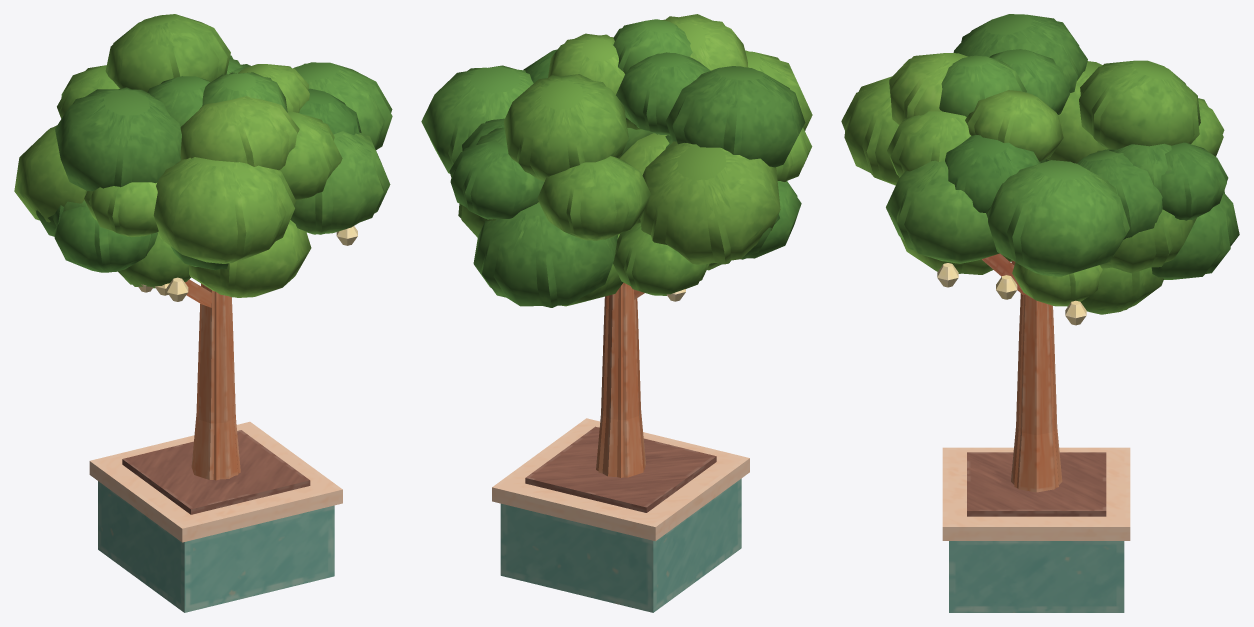
The model's file is tree.bundle.fbx.
3 views of the same model, side by side, from view 1: azimuth 30°, elevation 25°; view 2: azimuth 150°, elevation 25°; view 3: azimuth 270°, elevation 25° (orthographic).
Parts seen in each view (by area): view 1: tree, tree_low, tree_s02, tree_s06; view 2: tree, tree_low, tree_s01, tree_s06; view 3: tree, tree_low, tree_s02, tree_s01, tree_s06.
Part boxes in pixels (x1,y1,x2,y2): tree: (14,14,392,607); tree_low: (50,16,392,612); tree_s02: (185,421,342,591); tree_s06: (90,440,211,602); tree: (421,14,812,608); tree_low: (448,16,812,612); tree_s01: (492,491,616,603); tree_s06: (573,443,748,612); tree: (844,14,1239,609); tree_low: (841,14,1230,612); tree_s02: (942,431,1130,612); tree_s01: (973,538,1129,612); tree_s06: (942,447,1130,493).
Bounding box in the file's own units: 7.8 × 10.99 × 7.73.
Materials: 1 (1 with a texture image).
